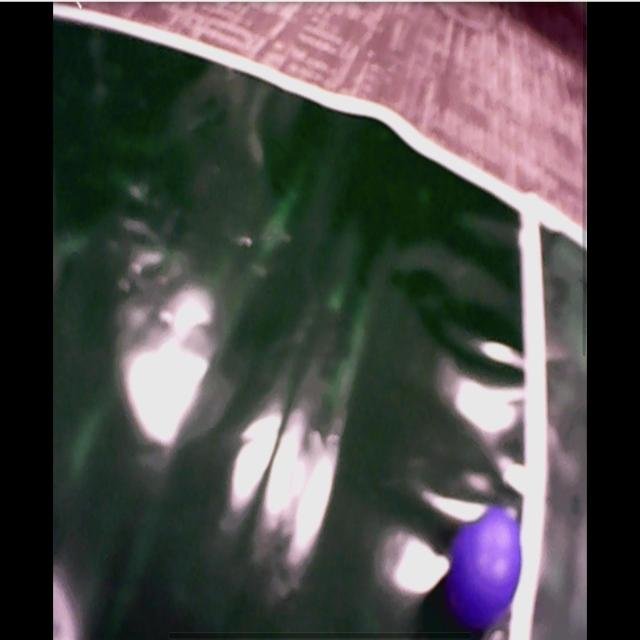ball: (450, 505, 523, 624)
